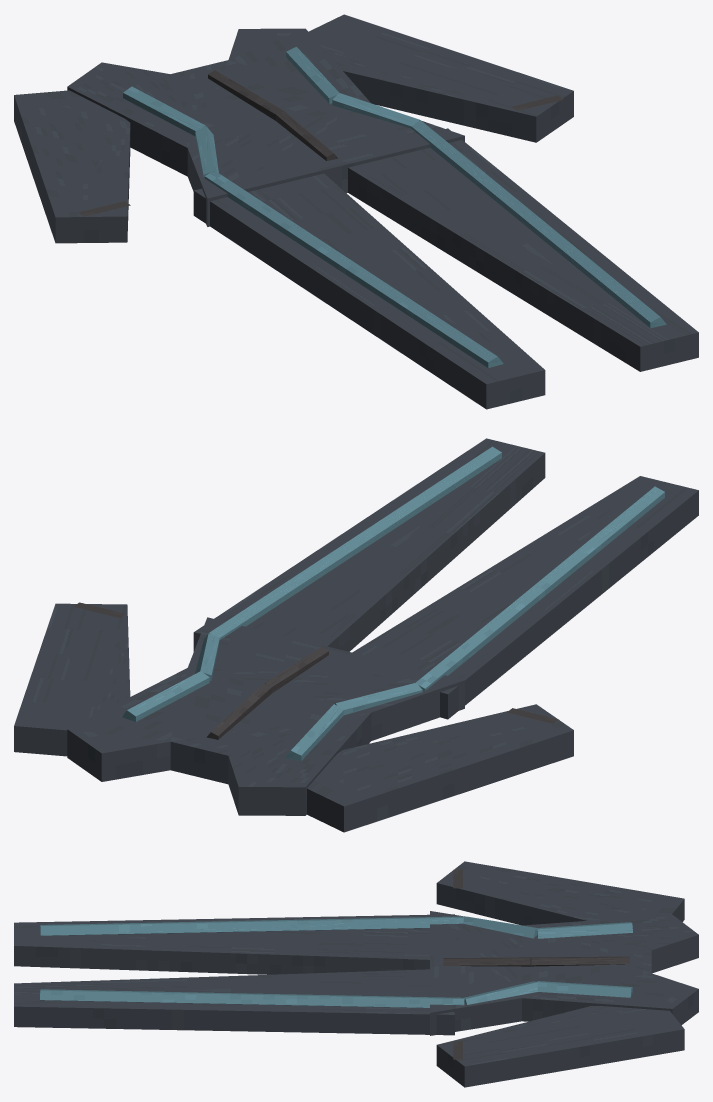
Rendered from wetsuit.glb.
The picture shows the model from 3 angles, top to bottom: view 1: azimuth 30°, elevation 25°; view 2: azimuth 150°, elevation 25°; view 3: azimuth 270°, elevation 25°; orthographic projection. The views are drawn at different scales.
Visible parts, largest first — view 1: block_integral trouser leg (×2), block_sleeve (×2), block_suit torso, block_neoprene side panel 2 (×2), block_neoprene side panel 0 (×2), block_neoprene side panel 1 (×2), block_sealed front zipper 0, block_sealed front zipper 1; view 2: block_integral trouser leg (×2), block_suit torso, block_sleeve (×2), block_neoprene side panel 2 (×2), block_neoprene side panel 0 (×2), block_neoprene side panel 1 (×2), block_sealed front zipper 0, block_sealed front zipper 1; view 3: block_integral trouser leg (×2), block_sleeve (×2), block_suit torso, block_neoprene side panel 2 (×2), block_neoprene side panel 0 (×2), block_neoprene side panel 1 (×2), block_sealed front zipper 0, block_sealed front zipper 1.
Part boxes in pixels (box(x1,y1,x2,y2)): block_integral trouser leg (×2): box(193, 128, 698, 409); block_sleeve (×2): box(14, 14, 573, 243); block_suit torso: box(67, 28, 464, 226); block_neoprene side panel 2 (×2): box(204, 120, 666, 367); block_neoprene side panel 0 (×2): box(123, 47, 339, 135); block_neoprene side panel 1 (×2): box(195, 93, 419, 176); block_sealed front zipper 0: box(208, 70, 282, 120); block_sealed front zipper 1: box(276, 110, 337, 160); block_integral trouser leg (×2): box(193, 438, 698, 719); block_suit torso: box(67, 617, 464, 815); block_sleeve (×2): box(14, 603, 573, 832); block_neoprene side panel 2 (×2): box(209, 446, 664, 690); block_neoprene side panel 0 (×2): box(122, 671, 343, 760); block_neoprene side panel 1 (×2): box(195, 633, 422, 715); block_sealed front zipper 0: box(206, 683, 271, 739); block_sealed front zipper 1: box(265, 647, 328, 693); block_integral trouser leg (×2): box(14, 914, 454, 1035); block_sleeve (×2): box(436, 861, 684, 1087); block_suit torso: box(430, 911, 698, 1035); block_neoprene side panel 2 (×2): box(40, 916, 464, 1007); block_neoprene side panel 0 (×2): box(537, 922, 632, 997); block_neoprene side panel 1 (×2): box(463, 916, 537, 1004); block_sealed front zipper 0: box(531, 956, 629, 966); block_sealed front zipper 1: box(443, 957, 530, 966).
Bounding box in the file's own units: 0.6566 × 0.0455 × 0.9268.
Materials: 1 (1 with a texture image).
